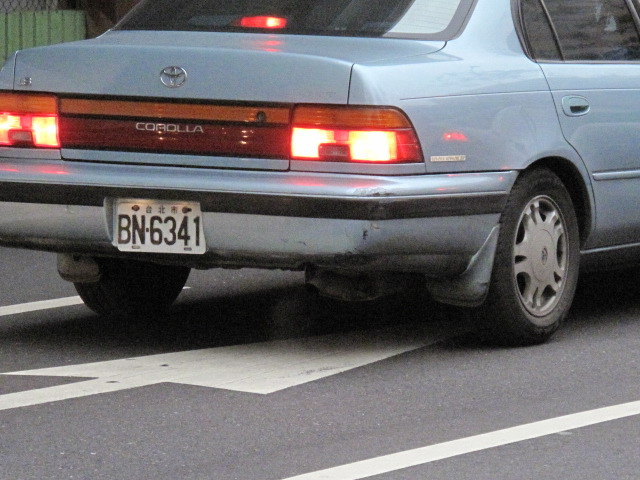plate: (113, 201, 208, 259)
